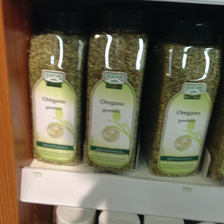spices: (149, 35, 221, 177), (84, 22, 147, 173), (28, 32, 85, 167)
